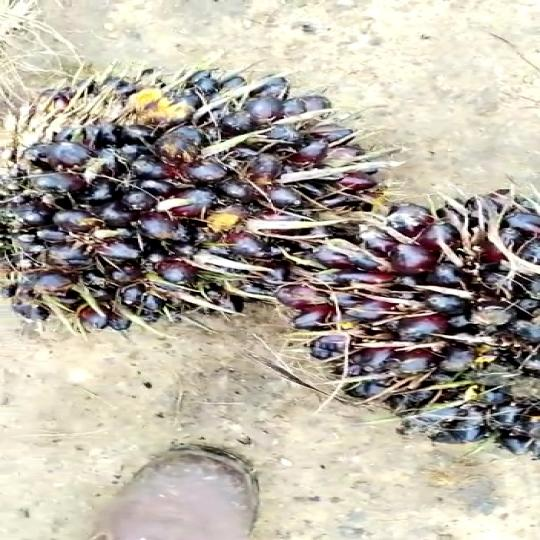mentah: (0, 50, 380, 330), (291, 167, 540, 445)
